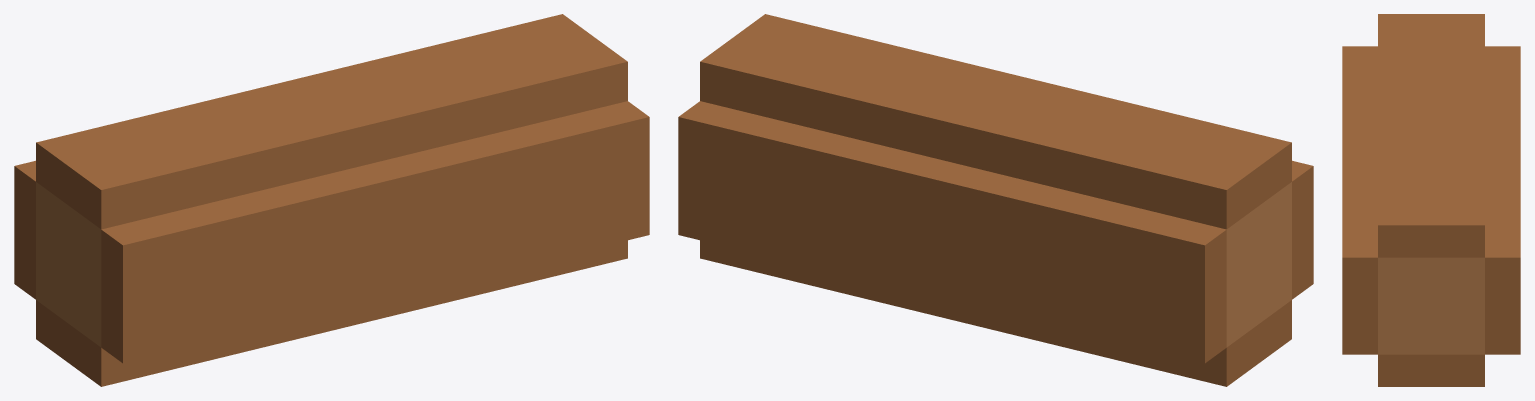
Rendered from deco_log_short.glb.
3 views of the same model, side by side, from view 1: azimuth 30°, elevation 25°; view 2: azimuth 150°, elevation 25°; view 3: azimuth 270°, elevation 25° (orthographic). The views are drawn at different scales.
Visible parts, largest first — view 1: model_0; view 2: model_0; view 3: model_0.
Part boxes in pixels (<box>): model_0: <box>14,14,649,386</box>; model_0: <box>678,14,1313,386</box>; model_0: <box>1342,14,1520,386</box>.
Bounding box in the file's own units: 0.56 × 0.2 × 0.2.
